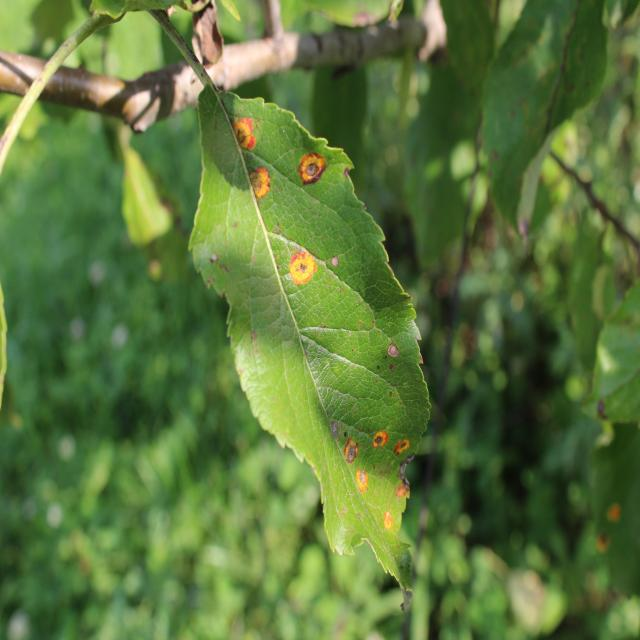rust: (188, 86, 432, 612)
